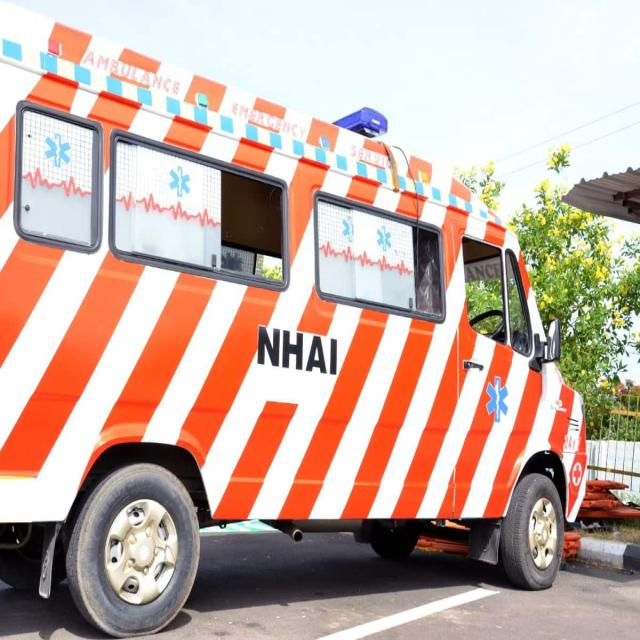emergency: (0, 7, 585, 634)
